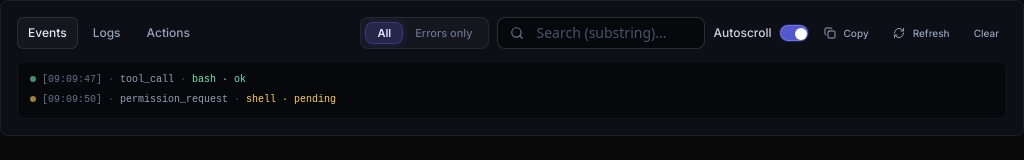
it: DevboxConsole toolbar › clear empties the local events buffer
Click the button with test id "devbox-console-clear" at coordinates (986, 33), box [966,21,1007,45]
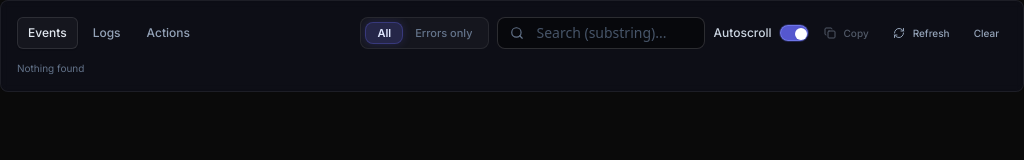
expect the element with test id "devbox-events-river" is gone: met
expect the text with test id "devbox-console-empty" reads "Nothing found": met, box [17,62,84,74]
